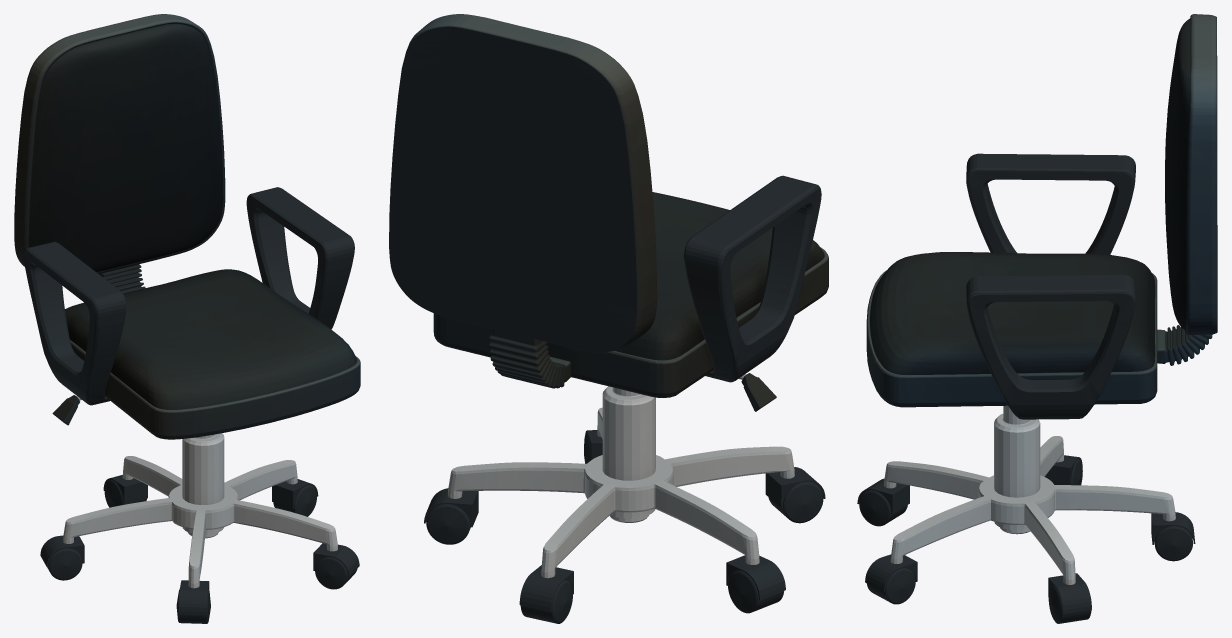
File: BlackOfficeChair.glb
3 views of the same model, side by side, from view 1: azimuth 30°, elevation 25°; view 2: azimuth 150°, elevation 25°; view 3: azimuth 270°, elevation 25° (orthographic). The views are drawn at different scales.
Size of the model in its own units: 0.1657 by 0.2703 by 0.1708.
1 material, 1 textured.
